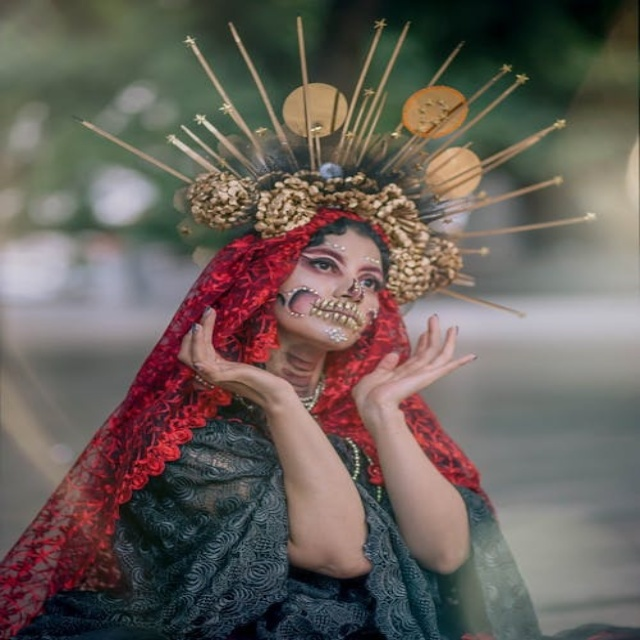Sin_gafas: (302, 245, 387, 292)
Sin_guantes: (351, 313, 476, 425), (176, 302, 293, 408)
Sin_mascara: (301, 291, 371, 345)
